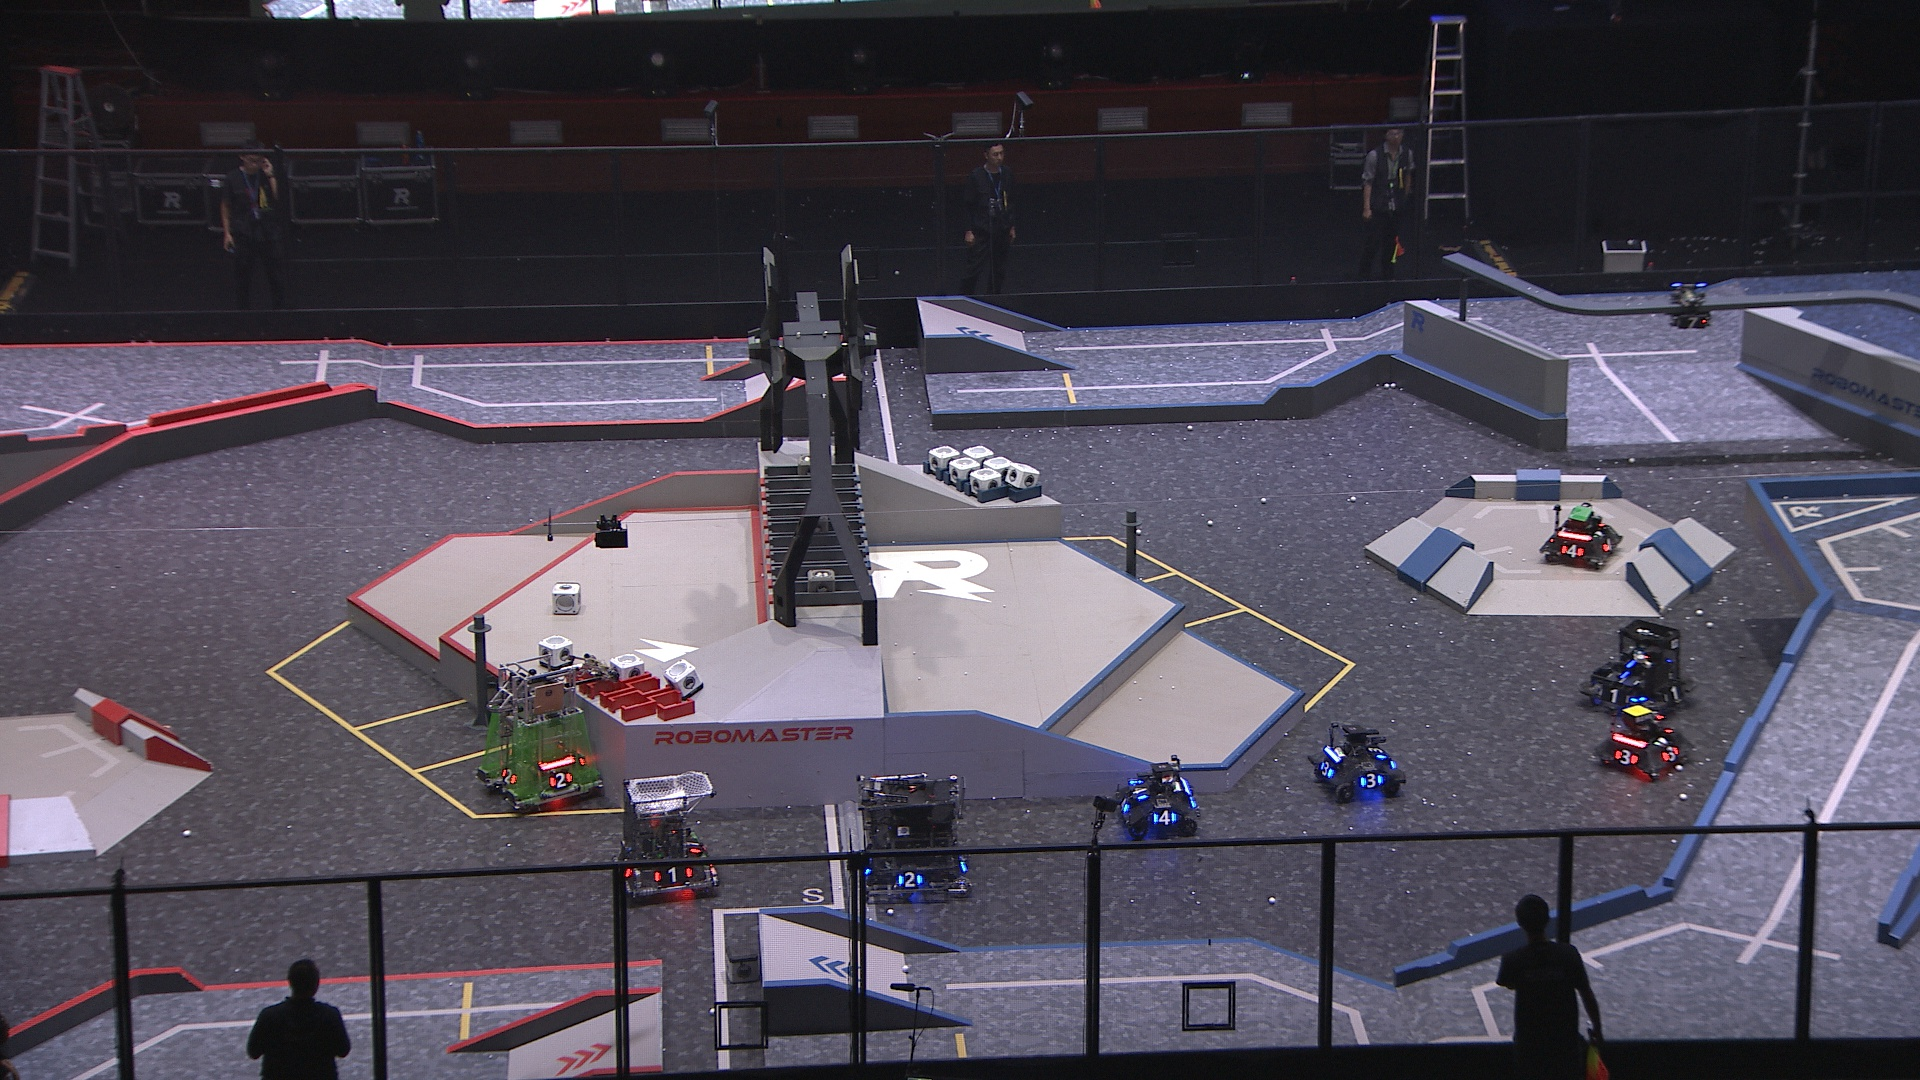armor: (651, 865, 694, 884), (1598, 684, 1633, 707), (1126, 779, 1153, 803), (1613, 746, 1640, 769), (1153, 807, 1182, 828), (1607, 671, 1643, 688), (1662, 680, 1687, 704), (897, 870, 924, 891), (1679, 314, 1712, 330), (1360, 770, 1386, 790), (549, 771, 576, 790), (1557, 542, 1585, 560), (1367, 742, 1391, 761), (1320, 757, 1337, 779), (684, 836, 704, 855), (498, 767, 520, 785), (1662, 745, 1680, 764), (1604, 535, 1617, 555), (1120, 798, 1133, 815)
car: (476, 657, 604, 816), (856, 773, 973, 903), (617, 771, 721, 903), (1582, 621, 1695, 721), (1106, 757, 1205, 841), (1596, 704, 1695, 782), (1305, 725, 1408, 799), (1542, 501, 1625, 570)
watcher: (1665, 281, 1713, 330)
